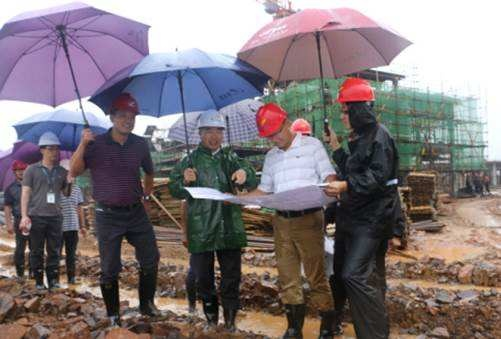red: (335, 78, 375, 128), (256, 104, 290, 146), (109, 91, 141, 133), (11, 157, 28, 178)
white: (195, 108, 226, 149), (36, 133, 61, 163)
